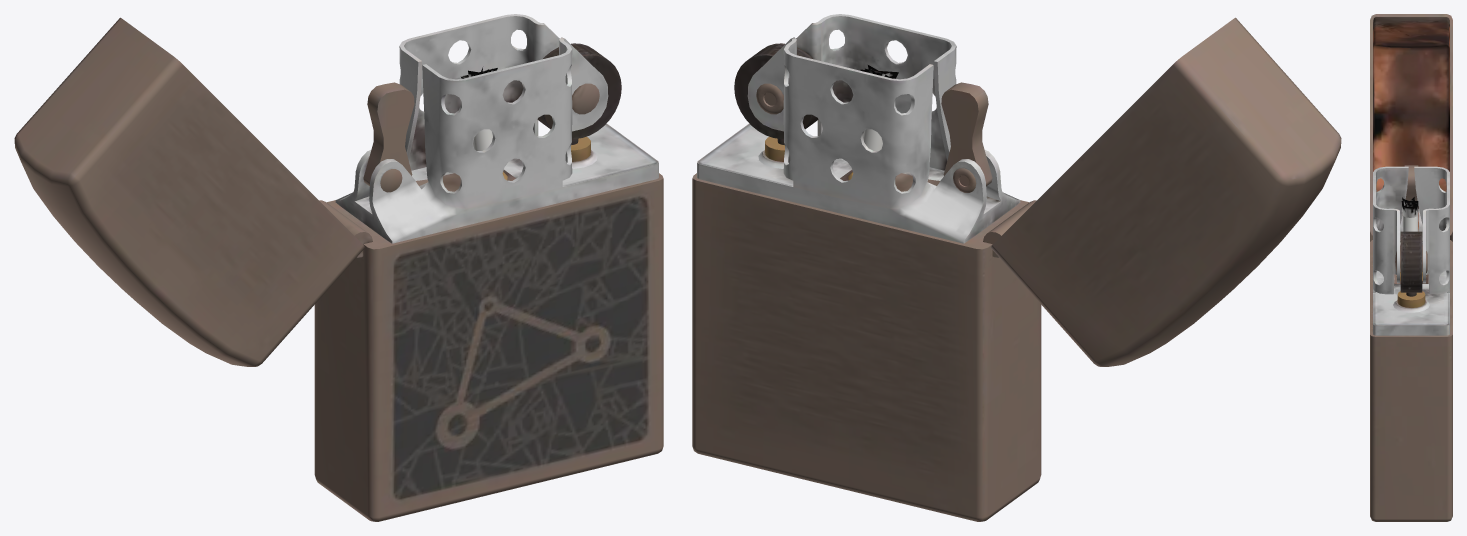
File: vintage_lighter.glb
3 views of the same model, side by side, from view 1: azimuth 30°, elevation 25°; view 2: azimuth 150°, elevation 25°; view 3: azimuth 270°, elevation 25° (orthographic). The views are drawn at different scales.
Parts seen in each view (by area): view 1: vintage_lighter_body; view 2: vintage_lighter_body; view 3: vintage_lighter_body.
Part boxes in pixels (bbox=[...]): vintage_lighter_body: bbox=[14, 14, 663, 521]; vintage_lighter_body: bbox=[692, 14, 1341, 521]; vintage_lighter_body: bbox=[1370, 14, 1452, 521].
Size of the model in its own units: 0.0796 by 0.065 by 0.014.
2 materials, 2 textured.
